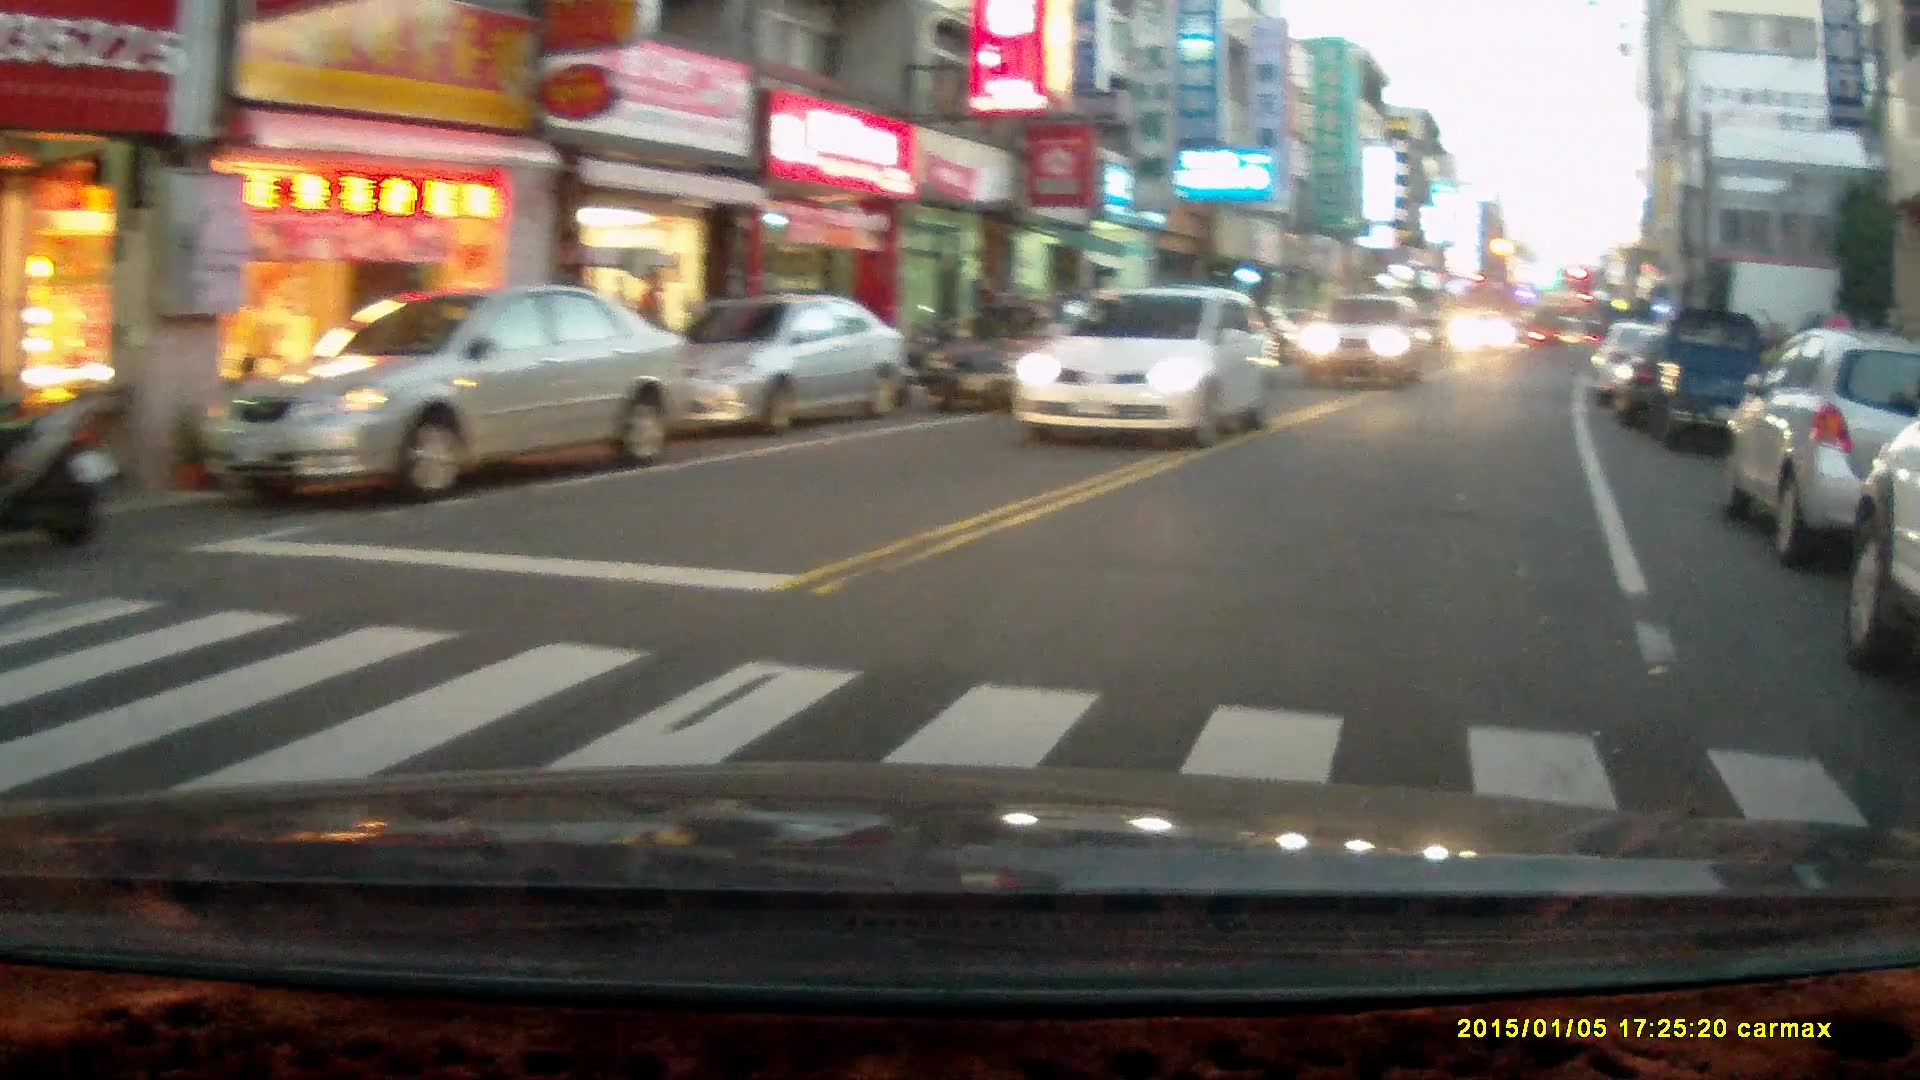vehicle: (200, 284, 688, 509), (1725, 328, 1920, 570), (1010, 284, 1283, 448), (626, 293, 913, 430), (1629, 309, 1767, 448), (1586, 323, 1730, 417), (1294, 291, 1435, 386), (1447, 309, 1520, 357)
